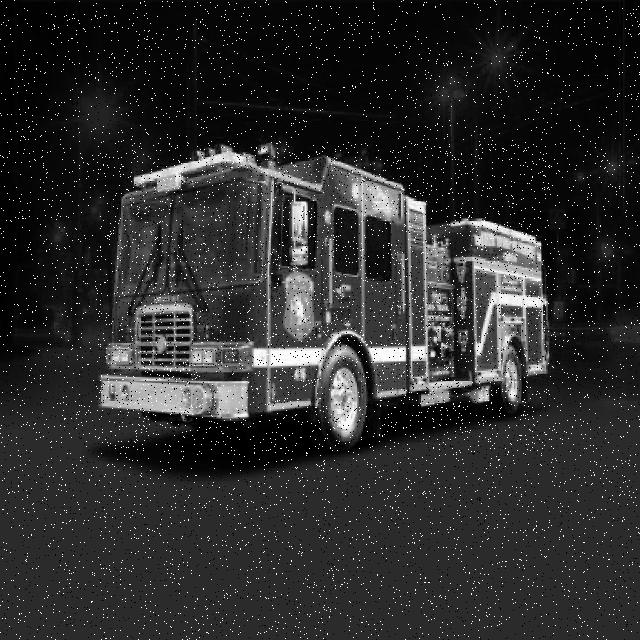Fire Truck: (98, 143, 550, 455)
